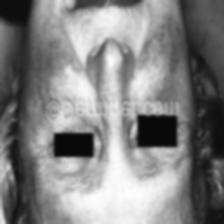Unclassified: (60, 60, 78, 86), (152, 47, 169, 74), (109, 75, 117, 90)
